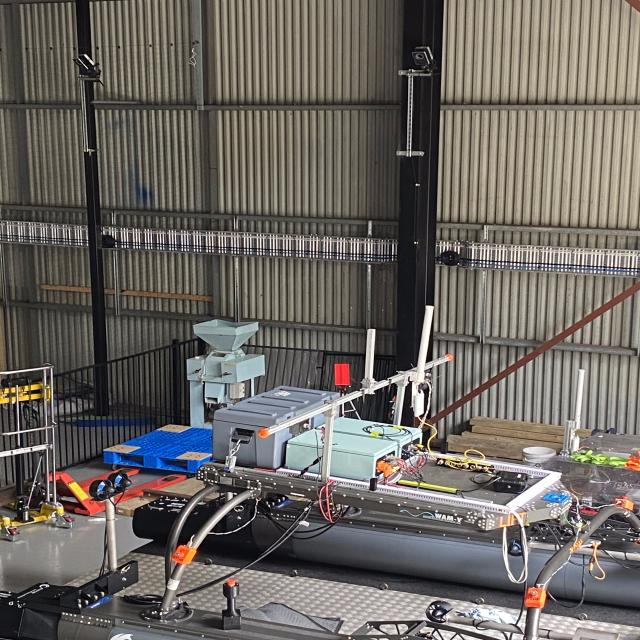matrix: (332, 362, 352, 387)
